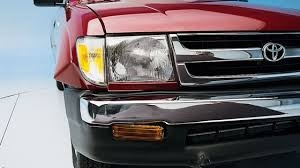Smashed: (54, 63, 88, 96)
